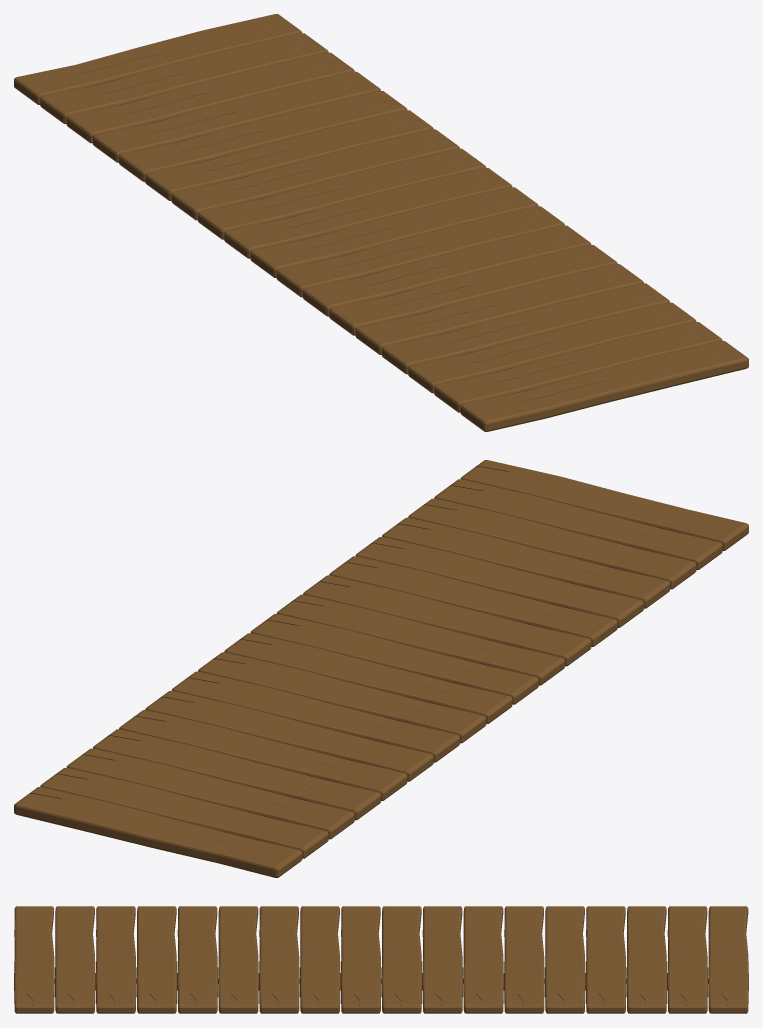
File: dock_previz_v1.glb
The picture shows the model from 3 angles, top to bottom: view 1: azimuth 30°, elevation 25°; view 2: azimuth 150°, elevation 25°; view 3: azimuth 270°, elevation 25°; orthographic projection. The views are drawn at different scales.
Visible parts, largest first — view 1: plank_1001; view 2: plank_1001; view 3: plank_1001.
Boxes of the visible parts, <box> form: plank_1001: <box>14,14,748,431</box>; plank_1001: <box>14,460,748,877</box>; plank_1001: <box>14,906,748,1013</box>.
Size of the model in its own units: 2.42 by 0.1115 by 7.47.
